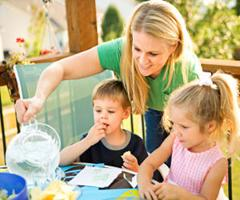person: (14, 2, 204, 185)
